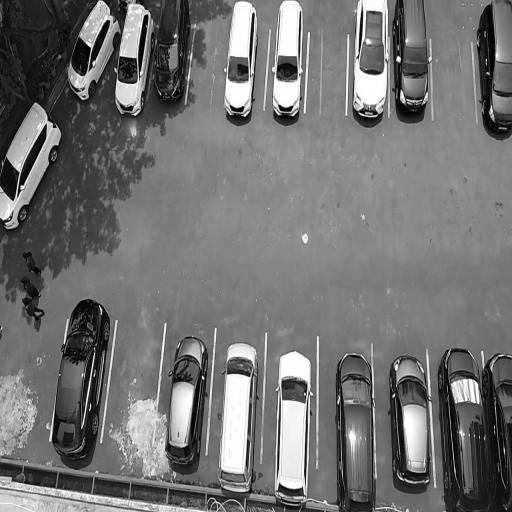Car: (51, 286, 114, 462), (0, 96, 64, 254), (438, 334, 492, 512), (269, 350, 315, 511), (332, 342, 374, 512), (389, 340, 433, 502), (217, 334, 258, 497), (166, 324, 206, 471), (350, 0, 390, 134), (65, 0, 116, 102), (484, 329, 512, 512), (112, 0, 152, 123), (393, 0, 430, 130), (220, 0, 256, 133), (270, 0, 303, 136), (478, 0, 512, 132), (152, 0, 187, 118)
Space Available: (118, 313, 153, 454), (310, 26, 348, 127), (433, 24, 471, 124), (192, 23, 224, 112)
